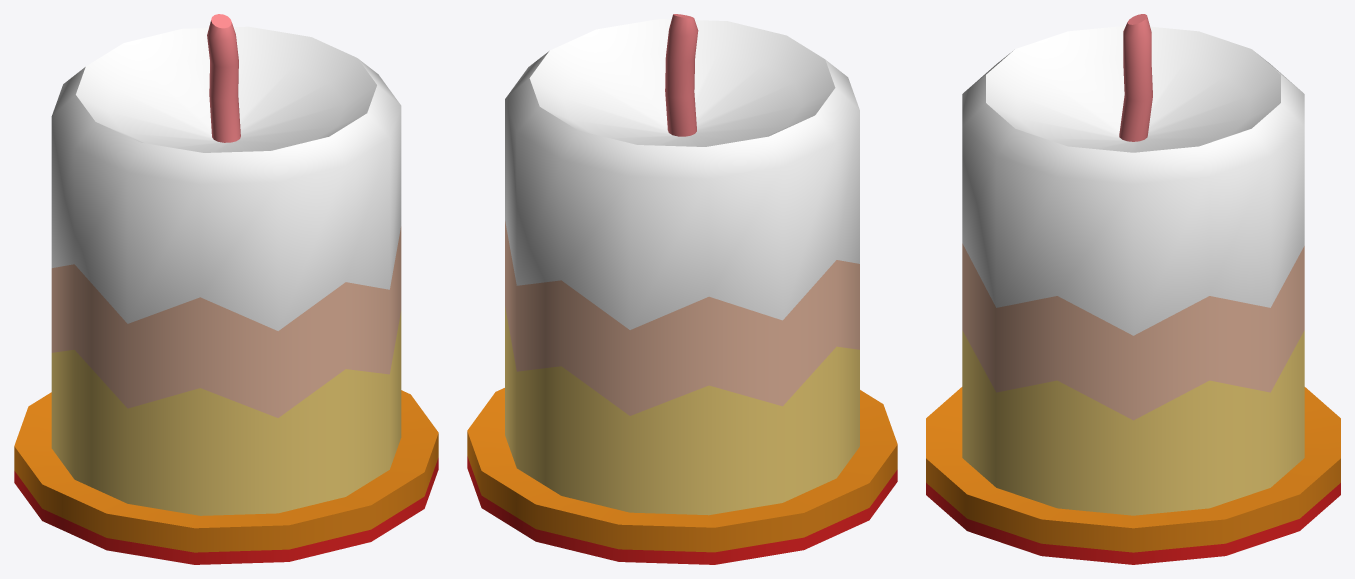
File: Chotbol3-2.fbx
3 views of the same model, side by side, from view 1: azimuth 30°, elevation 25°; view 2: azimuth 150°, elevation 25°; view 3: azimuth 270°, elevation 25° (orthographic).
Parts seen in each view (by area): view 1: Chotbol3-2; view 2: Chotbol3-2; view 3: Chotbol3-2.
Part boxes in pixels (x1,y1,x2,y2): Chotbol3-2: [14, 14, 438, 564]; Chotbol3-2: [467, 14, 897, 564]; Chotbol3-2: [926, 14, 1340, 564].
Bounding box in the file's own units: 0.2611 × 0.3095 × 0.2545.
